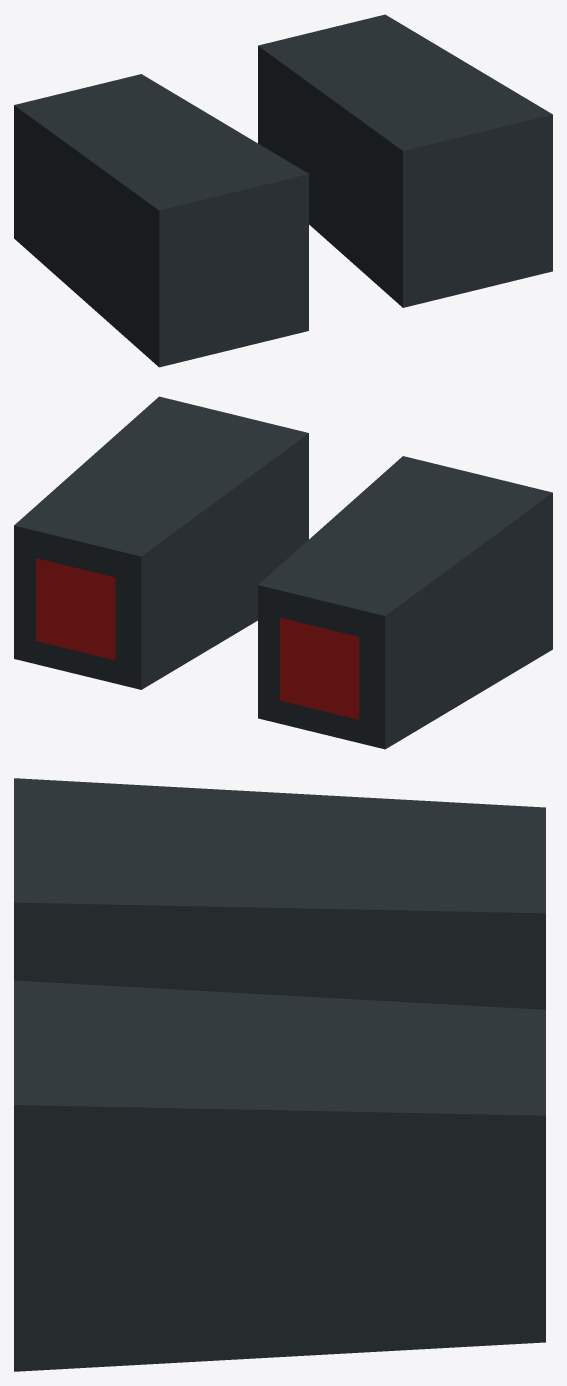
The picture shows the model from 3 angles, top to bottom: view 1: azimuth 30°, elevation 25°; view 2: azimuth 150°, elevation 25°; view 3: azimuth 270°, elevation 25°; orthographic projection. The views are drawn at different scales.
Parts seen in each view (by area): view 1: mount; view 2: mount; view 3: mount.
Boxes of the visible parts, bbox=[...] form: mount: bbox=[14, 14, 552, 367]; mount: bbox=[14, 396, 552, 749]; mount: bbox=[14, 778, 545, 1371].
Size of the model in its own units: 3.34 by 1.27 by 2.33.
